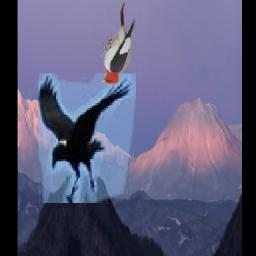Crow: (38, 74, 135, 204)
Woodpecker: (99, 3, 136, 86)
